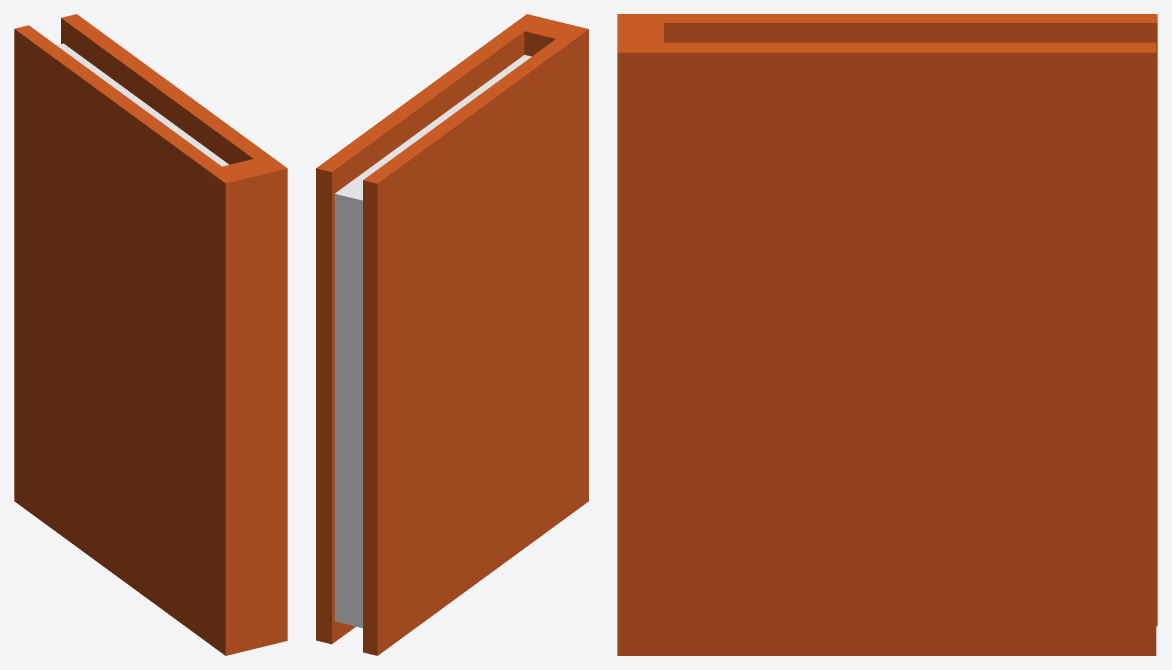
File: Brown_Book.FBX
3 renders of one model, left to right at view 1: azimuth 30°, elevation 25°; view 2: azimuth 150°, elevation 25°; view 3: azimuth 270°, elevation 25°, orthographic. The views are drawn at different scales.
Parts seen in each view (by area): view 1: Book_047; view 2: Book_047; view 3: Book_047.
Boxes of the visible parts, left/top/right/bottom form: Book_047: left=14, top=14, right=287, bottom=655; Book_047: left=316, top=14, right=588, bottom=655; Book_047: left=617, top=14, right=1157, bottom=655.
Size of the model in its own units: 1.96 by 14.27 by 11.57.
